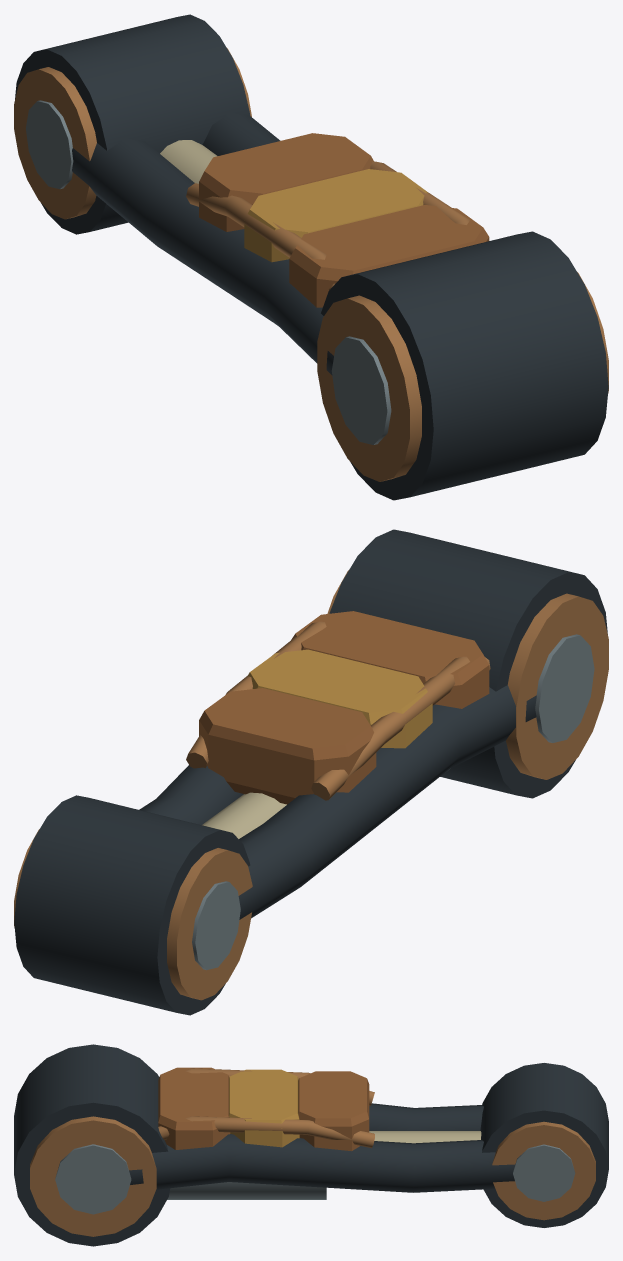
The model's file is kharon_driver_thigh.glb.
3 renders of one model, top to bottom at view 1: azimuth 30°, elevation 25°; view 2: azimuth 150°, elevation 25°; view 3: azimuth 270°, elevation 25°, orthographic. The views are drawn at different scales.
Parts seen in each view (by area): view 1: kharon_driver_thigh; view 2: kharon_driver_thigh; view 3: kharon_driver_thigh.
Part boxes in pixels (left/top/right/bottom): kharon_driver_thigh: left=14, top=14, right=608, bottom=500; kharon_driver_thigh: left=14, top=529, right=608, bottom=1015; kharon_driver_thigh: left=14, top=1044, right=608, bottom=1246.
Bounding box in the file's own units: 1.81 × 1.76 × 6.6.
